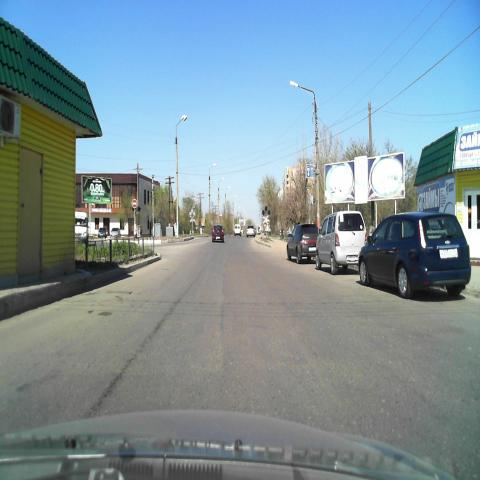5_11: (306, 163, 315, 178)
